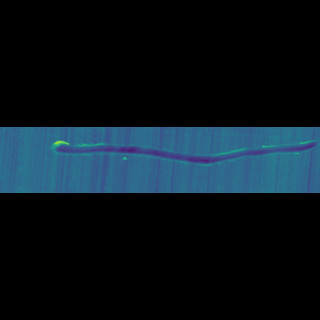Loch: (49, 155, 319, 161)
